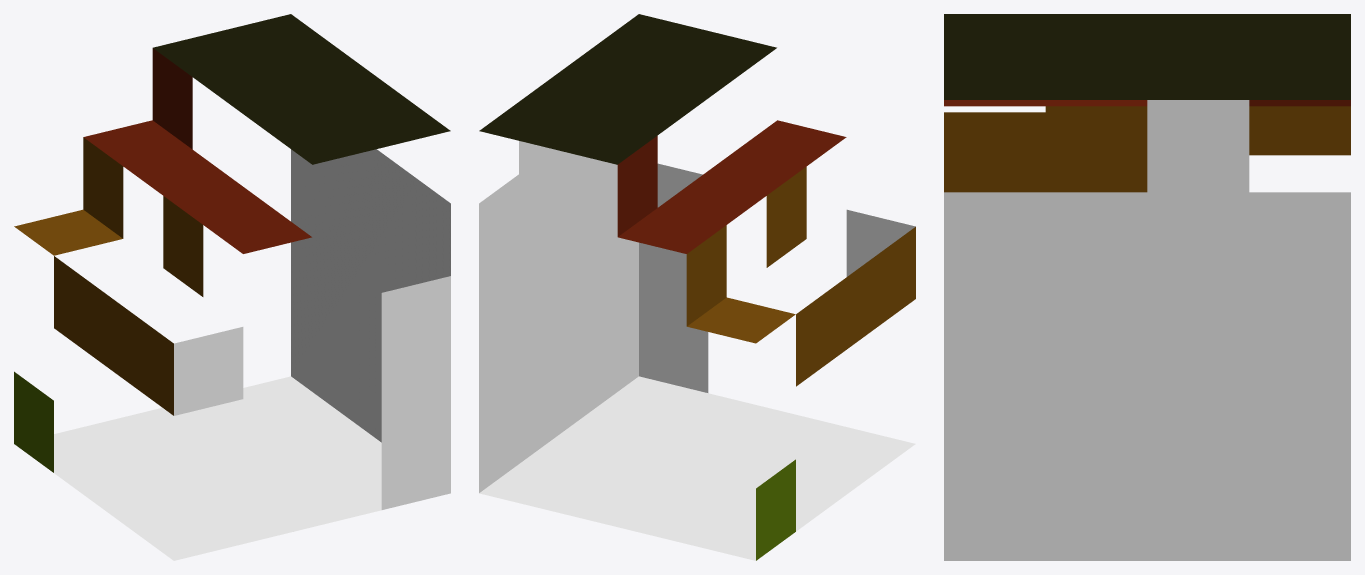
The model's file is block_26.fbx.
3 renders of one model, left to right at view 1: azimuth 30°, elevation 25°; view 2: azimuth 150°, elevation 25°; view 3: azimuth 270°, elevation 25°, orthographic. The views are drawn at different scales.
Visible parts, largest first — view 1: box; view 2: box; view 3: box.
Part boxes in pixels (left/top/right/bottom): box: left=14, top=14, right=450, bottom=560; box: left=479, top=14, right=915, bottom=560; box: left=944, top=14, right=1350, bottom=560.
Bounding box in the file's own units: 4 × 4 × 5.
1 material, 1 textured.
